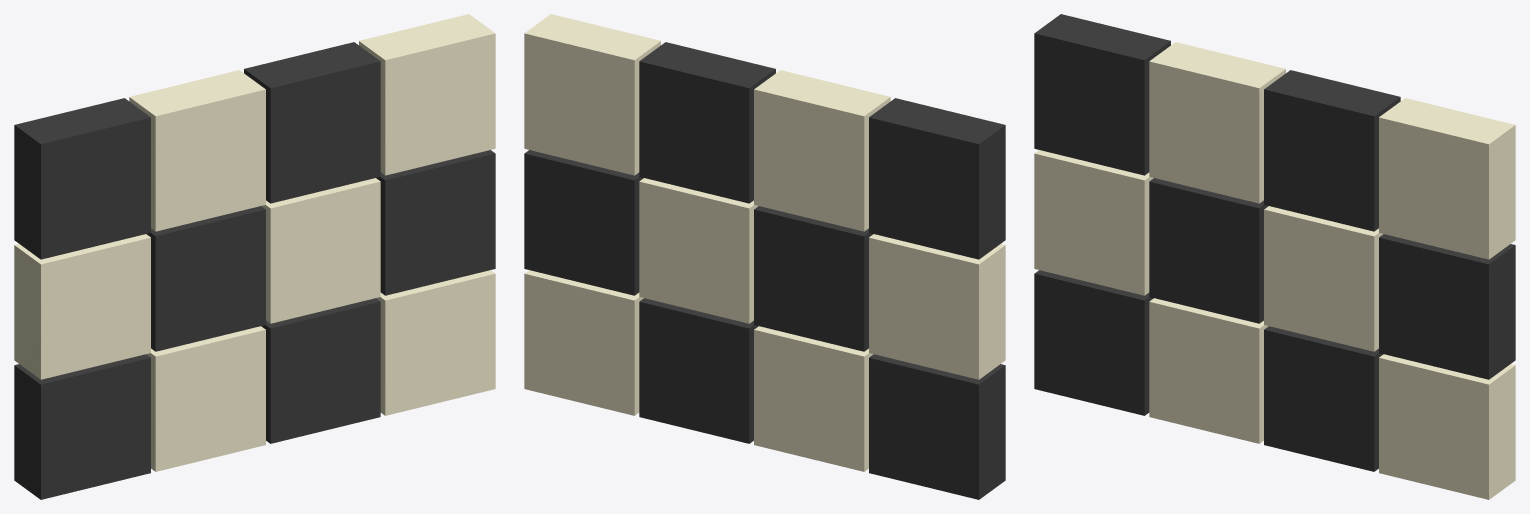
Rendered from checker_wall.glb.
The picture shows the model from 3 angles, left to right: view 1: azimuth 30°, elevation 25°; view 2: azimuth 150°, elevation 25°; view 3: azimuth 330°, elevation 25°; orthographic projection.
Visible parts, largest first — view 1: SB_Chk0_2, SB_Chk0_0, SB_Chk0_1, SB_Chk3_2, SB_Chk1_2, SB_Chk2_2, SB_Chk3_0, SB_Chk3_1, SB_Chk1_1, SB_Chk2_0, SB_Chk2_1, SB_Chk1_0; view 2: SB_Chk0_2, SB_Chk0_0, SB_Chk0_1, SB_Chk3_2, SB_Chk1_2, SB_Chk2_2, SB_Chk3_0, SB_Chk3_1, SB_Chk1_1, SB_Chk2_0, SB_Chk2_1, SB_Chk1_0; view 3: SB_Chk3_2, SB_Chk3_0, SB_Chk3_1, SB_Chk0_2, SB_Chk1_2, SB_Chk2_2, SB_Chk0_0, SB_Chk0_1, SB_Chk2_1, SB_Chk1_0, SB_Chk1_1, SB_Chk2_0.
Part boxes in pixels (x1,y1,x2,y2): SB_Chk0_2: [14, 98, 150, 259]; SB_Chk0_0: [14, 354, 150, 499]; SB_Chk0_1: [14, 234, 150, 379]; SB_Chk3_2: [359, 14, 495, 175]; SB_Chk1_2: [129, 70, 265, 231]; SB_Chk2_2: [244, 42, 380, 203]; SB_Chk3_0: [376, 270, 495, 415]; SB_Chk3_1: [376, 150, 495, 295]; SB_Chk1_1: [146, 206, 265, 351]; SB_Chk2_0: [261, 298, 380, 443]; SB_Chk2_1: [261, 178, 380, 323]; SB_Chk1_0: [146, 326, 265, 471]; SB_Chk0_2: [869, 98, 1005, 259]; SB_Chk0_0: [869, 354, 1005, 499]; SB_Chk0_1: [869, 234, 1005, 379]; SB_Chk3_2: [524, 14, 660, 175]; SB_Chk1_2: [754, 70, 890, 231]; SB_Chk2_2: [639, 42, 775, 203]; SB_Chk3_0: [524, 270, 643, 415]; SB_Chk3_1: [524, 150, 643, 295]; SB_Chk1_1: [754, 206, 873, 351]; SB_Chk2_0: [639, 298, 758, 443]; SB_Chk2_1: [639, 178, 758, 323]; SB_Chk1_0: [754, 326, 873, 471]; SB_Chk3_2: [1379, 98, 1515, 259]; SB_Chk3_0: [1379, 354, 1515, 499]; SB_Chk3_1: [1379, 234, 1515, 379]; SB_Chk0_2: [1034, 14, 1170, 175]; SB_Chk1_2: [1149, 42, 1285, 203]; SB_Chk2_2: [1264, 70, 1400, 231]; SB_Chk0_0: [1034, 270, 1153, 415]; SB_Chk0_1: [1034, 150, 1153, 295]; SB_Chk2_1: [1264, 206, 1383, 351]; SB_Chk1_0: [1149, 298, 1268, 443]; SB_Chk1_1: [1149, 178, 1268, 323]; SB_Chk2_0: [1264, 326, 1383, 471].
Bounding box in the file's own units: 1.98 × 1.48 × 0.2.
